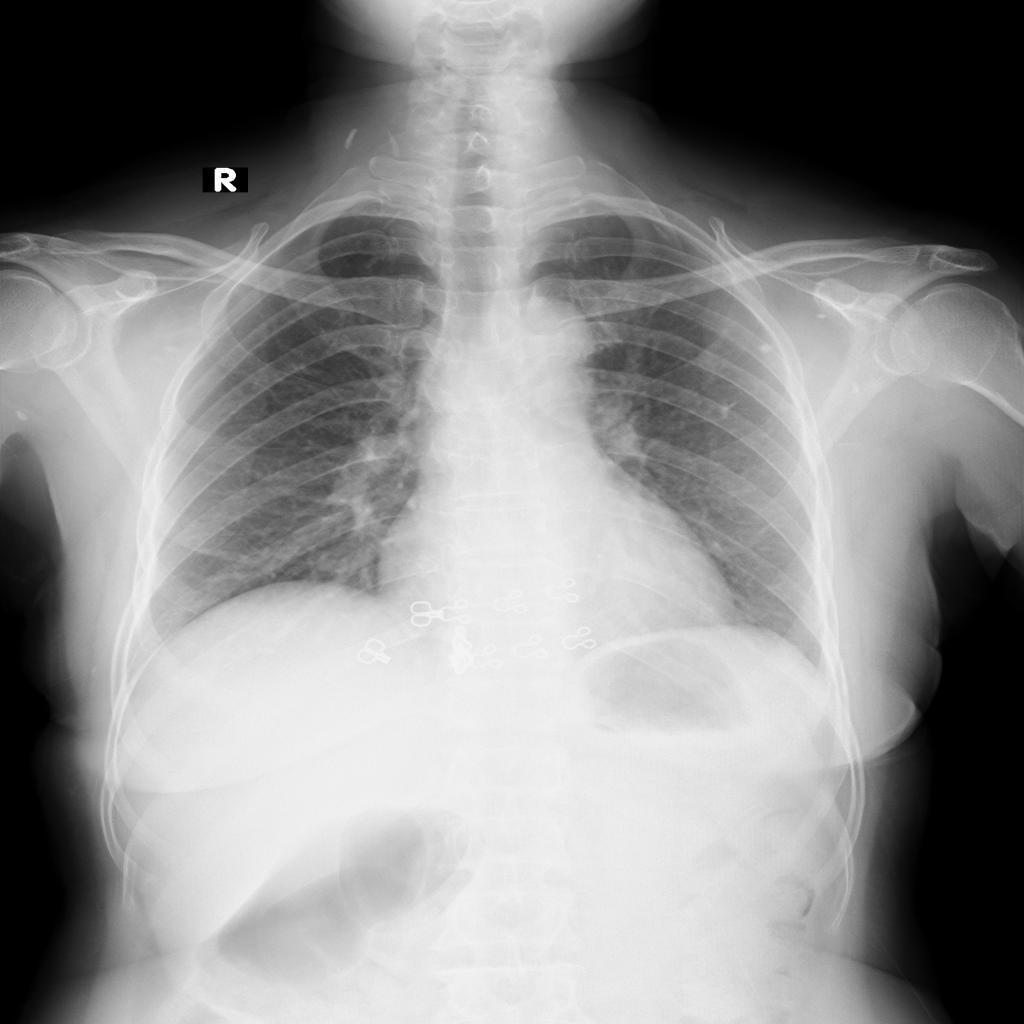Nodule: (756, 342, 772, 356)
